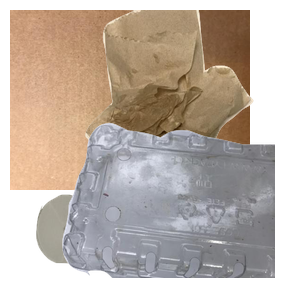cardboard: (10, 10, 250, 190)
glass: (34, 192, 187, 300)
plastic: (60, 120, 300, 300)
trash: (83, 10, 300, 163)
